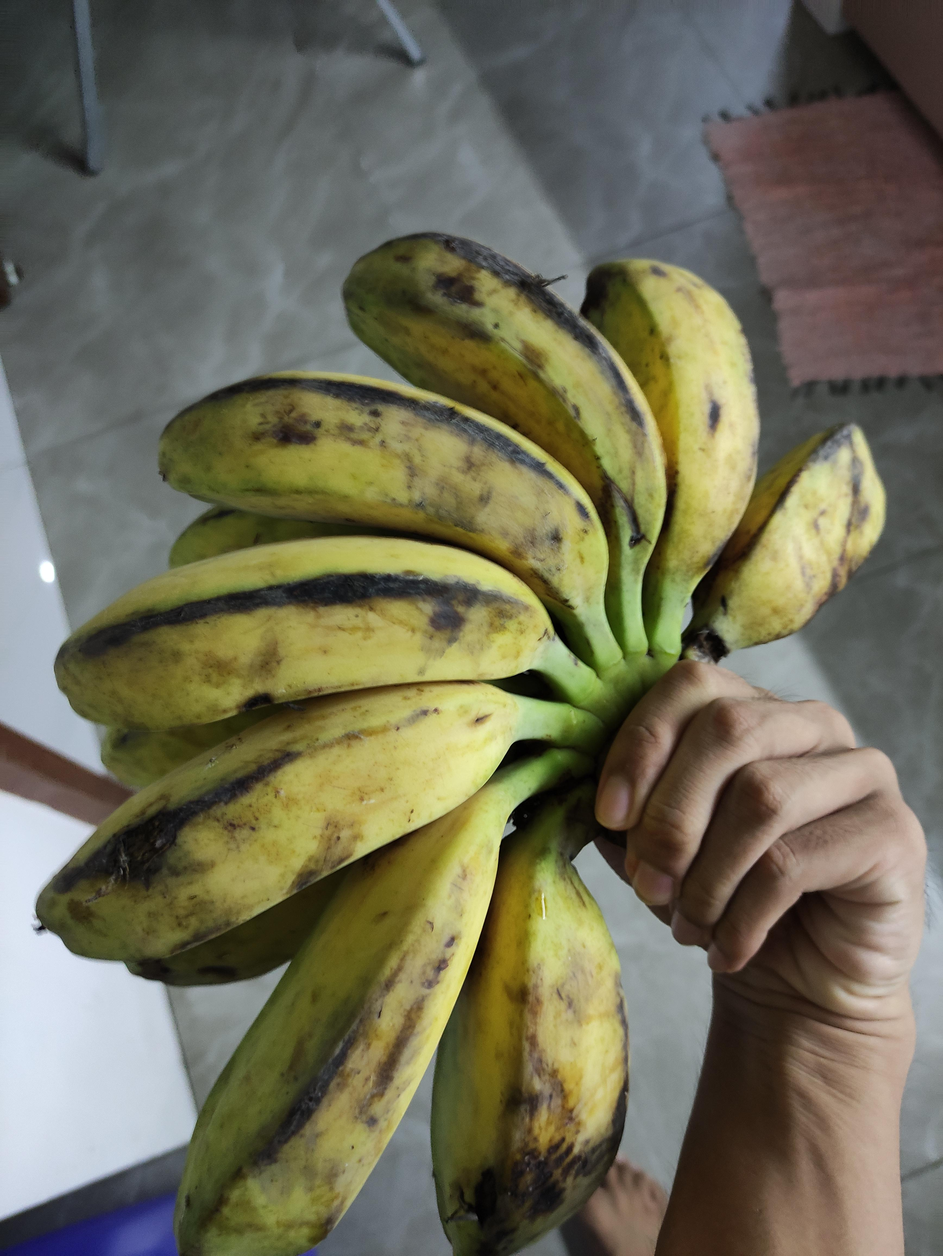underripe: (35, 233, 882, 1256)
